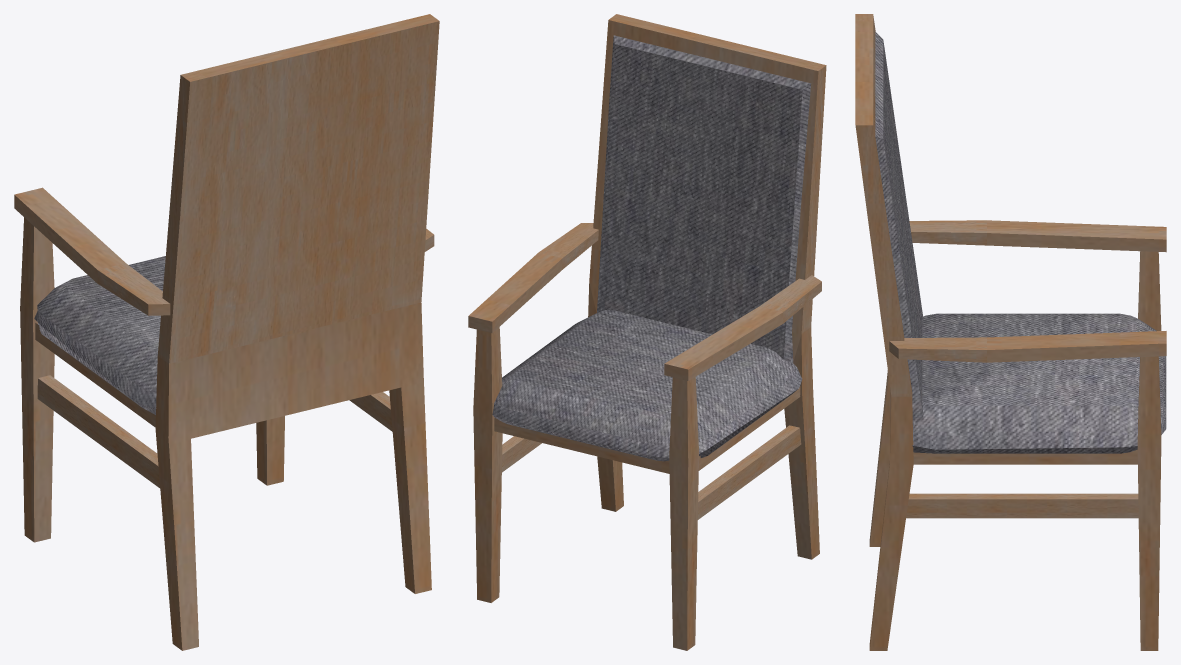
Rendered from FUR0210001.fbx.
The picture shows the model from 3 angles, left to right: view 1: azimuth 30°, elevation 25°; view 2: azimuth 150°, elevation 25°; view 3: azimuth 270°, elevation 25°; orthographic projection. The views are drawn at different scales.
Parts seen in each view (by area): view 1: smFUR0210001; view 2: smFUR0210001; view 3: smFUR0210001.
Boxes of the visible parts, x1,y1,x2,y2 form: smFUR0210001: [14, 14, 439, 650]; smFUR0210001: [468, 14, 826, 650]; smFUR0210001: [855, 14, 1166, 650].
Bounding box in the file's own units: 71.81 × 136 × 72.71.
Materials: 1 (1 with a texture image).
